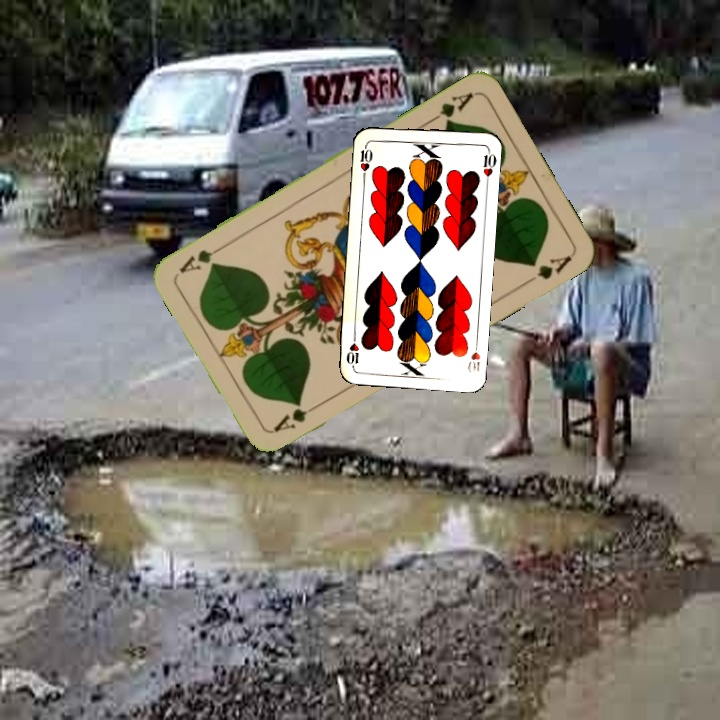GA: (423, 88, 477, 127), (268, 399, 323, 435)
H10: (463, 336, 483, 375), (356, 140, 375, 180)
